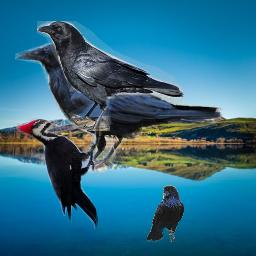Crow: (15, 42, 224, 174), (37, 21, 184, 131), (147, 185, 184, 242)
Woodpecker: (16, 118, 102, 230)
